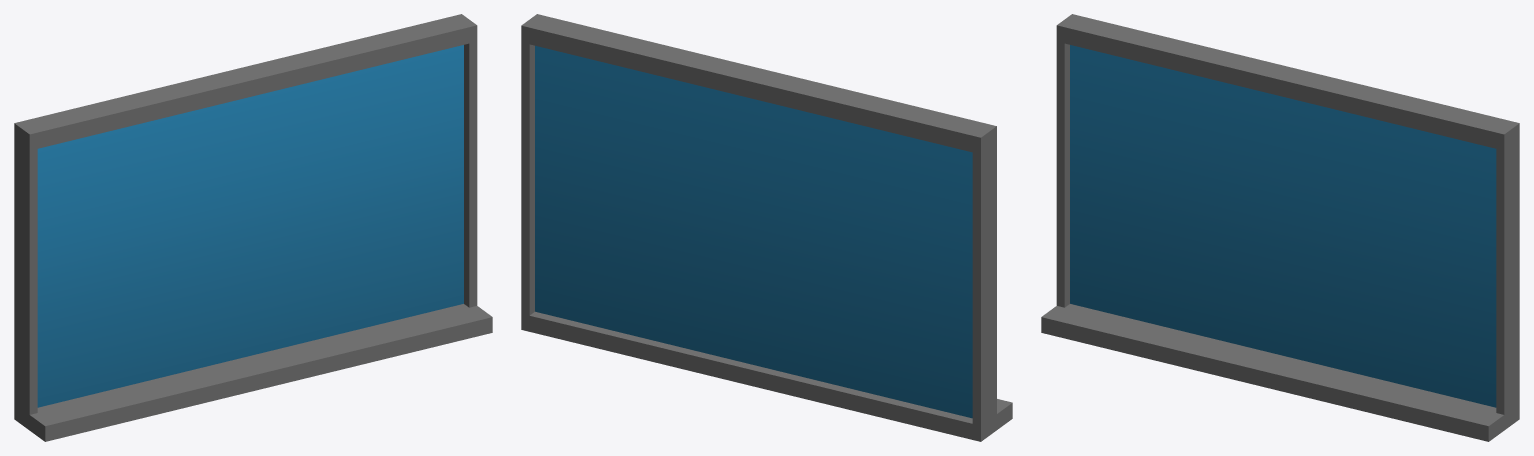
The model's file is WindowLarge02.fbx.
3 renders of one model, left to right at view 1: azimuth 30°, elevation 25°; view 2: azimuth 150°, elevation 25°; view 3: azimuth 330°, elevation 25°, orthographic. The views are drawn at different scales.
Parts seen in each view (by area): view 1: WindowLarge02; view 2: WindowLarge02; view 3: WindowLarge02.
Boxes of the visible parts, x1,y1,x2,y2 form: WindowLarge02: (14, 14, 492, 441); WindowLarge02: (521, 14, 1012, 441); WindowLarge02: (1041, 14, 1519, 441).
Size of the model in its own units: 167 by 106 by 20.
